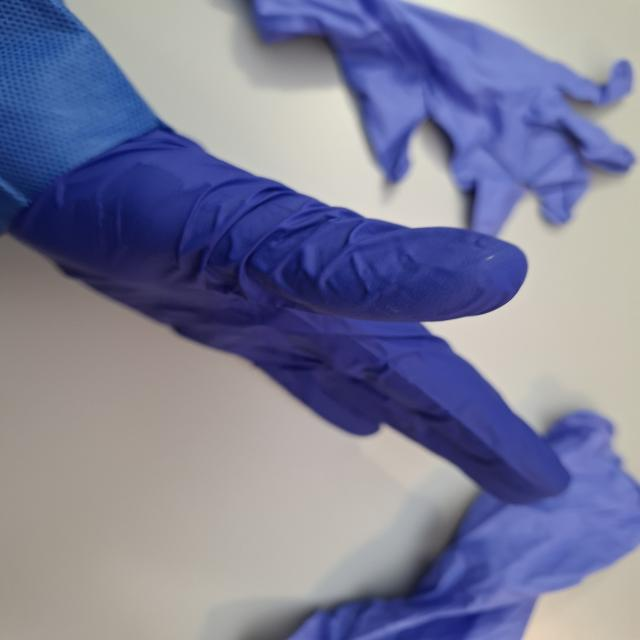glove_on: (12, 122, 574, 510)
